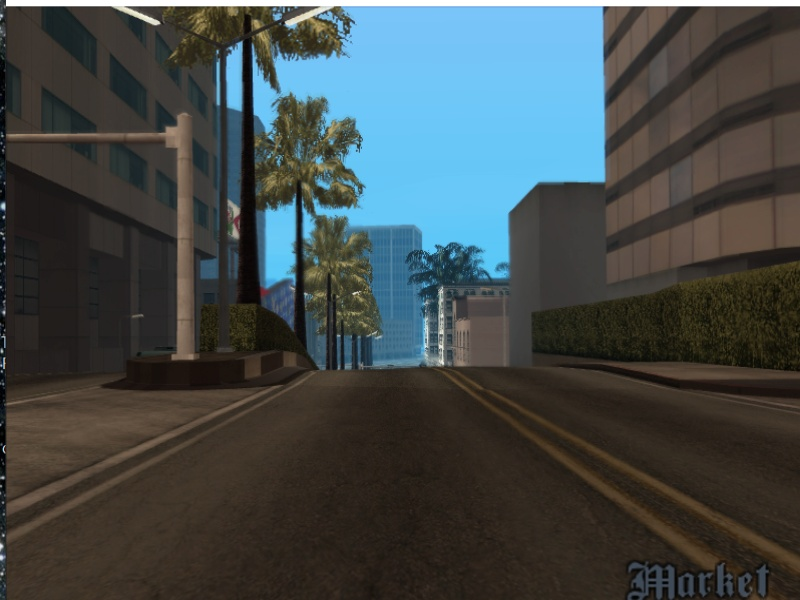pole: (169, 127, 201, 363), (216, 45, 237, 356)
